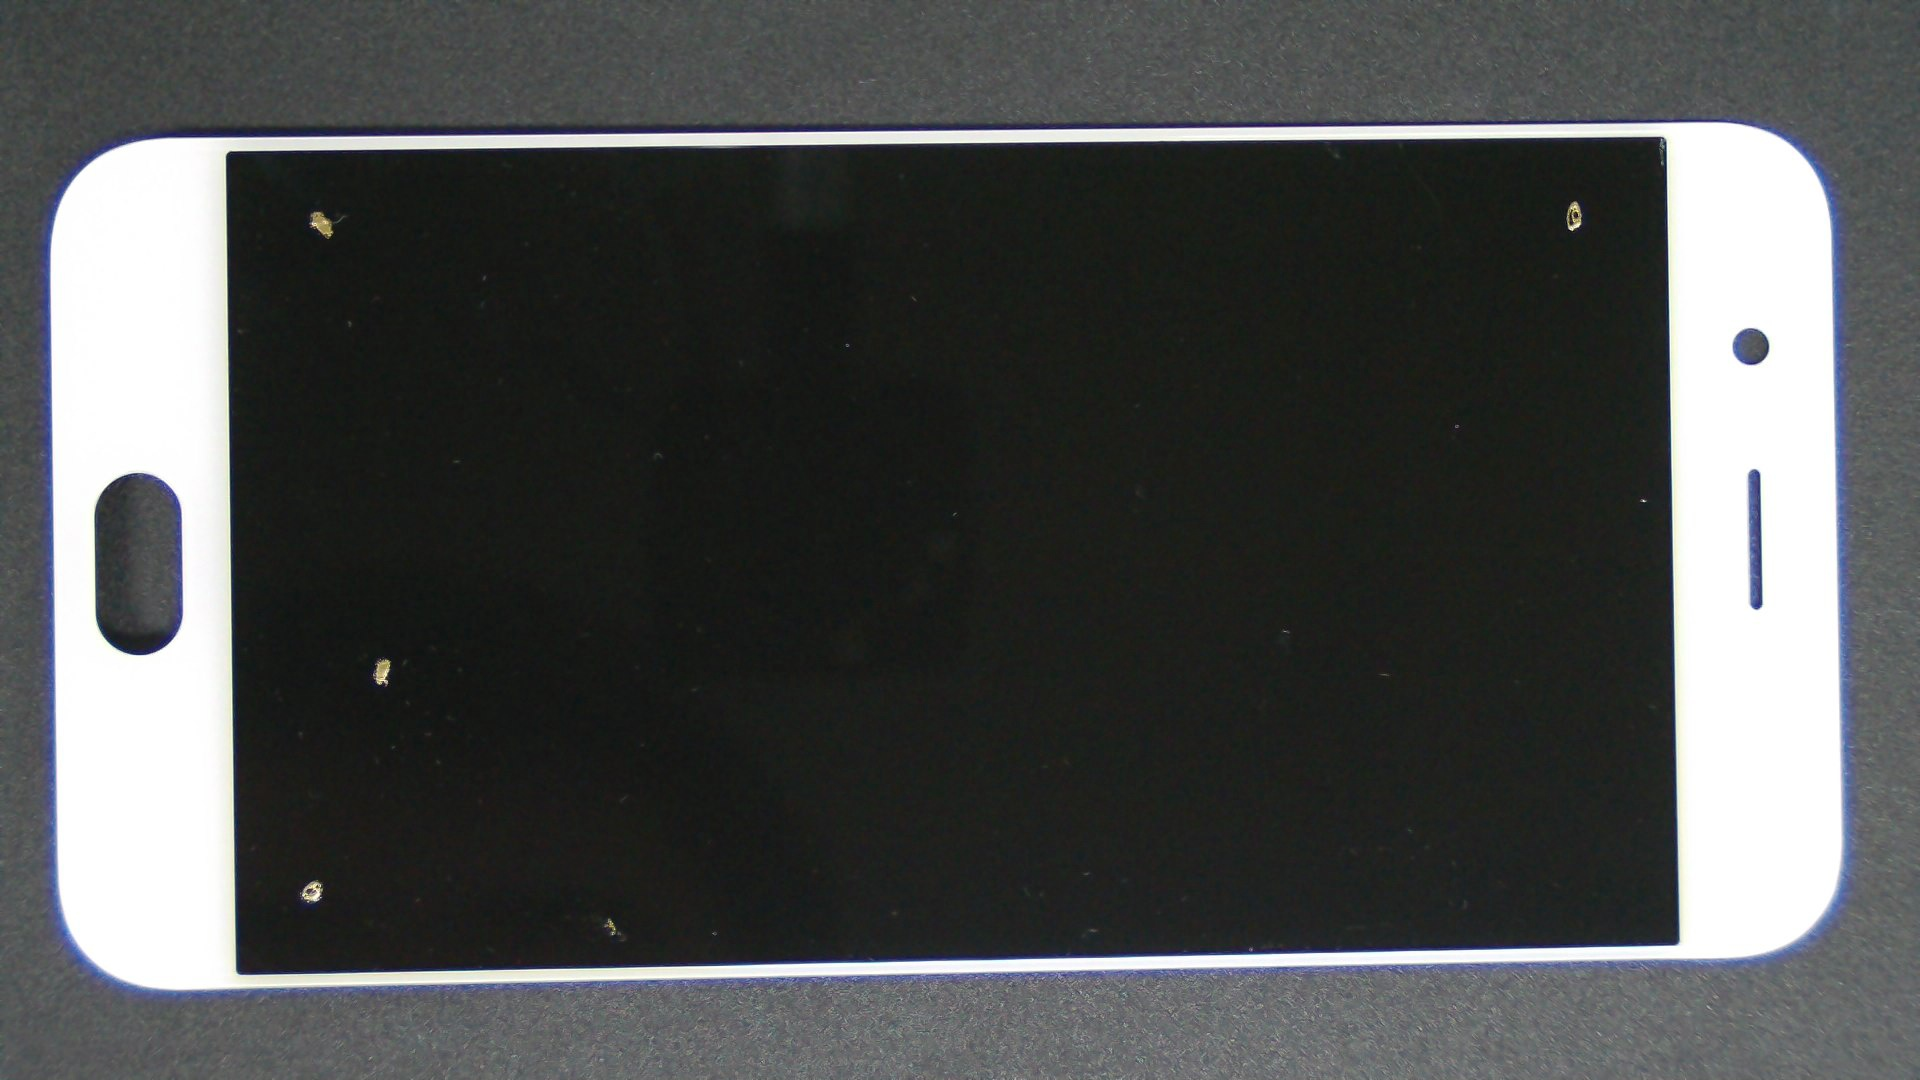oil: (302, 458, 907, 1080), (191, 327, 572, 985), (785, 98, 1920, 294), (157, 438, 471, 1080), (161, 102, 479, 309)
